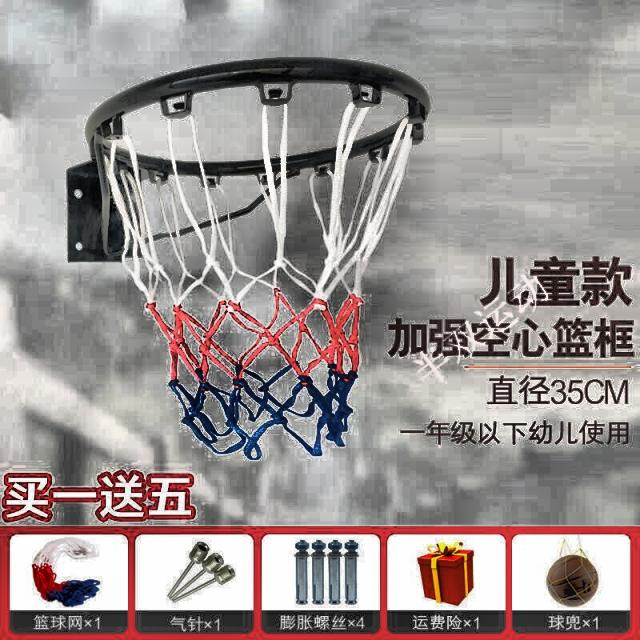rim: (96, 58, 430, 446)
